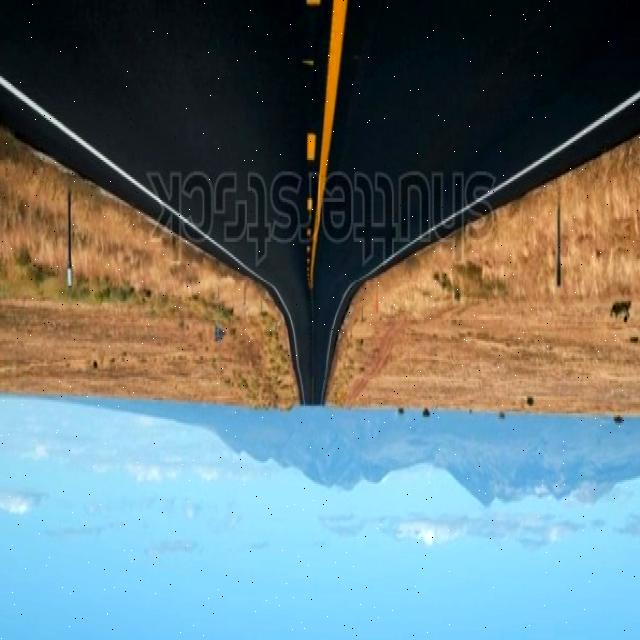lane: (310, 2, 348, 290)
road: (1, 4, 640, 406)
